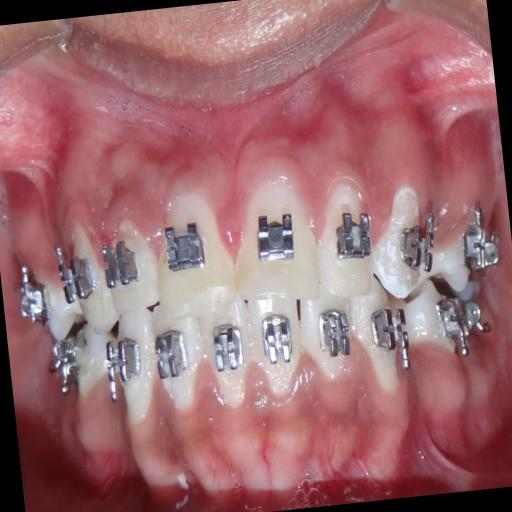correct_brace: (387, 204, 440, 286), (365, 303, 413, 386), (158, 212, 213, 283), (329, 196, 375, 278), (251, 206, 305, 272), (104, 326, 148, 406), (57, 244, 101, 314), (256, 309, 298, 380), (314, 304, 354, 373), (210, 316, 248, 387), (155, 326, 195, 392), (102, 237, 144, 295)
incorrect_brace: (310, 169, 378, 300), (97, 212, 160, 316), (153, 311, 210, 420), (296, 292, 356, 384)
